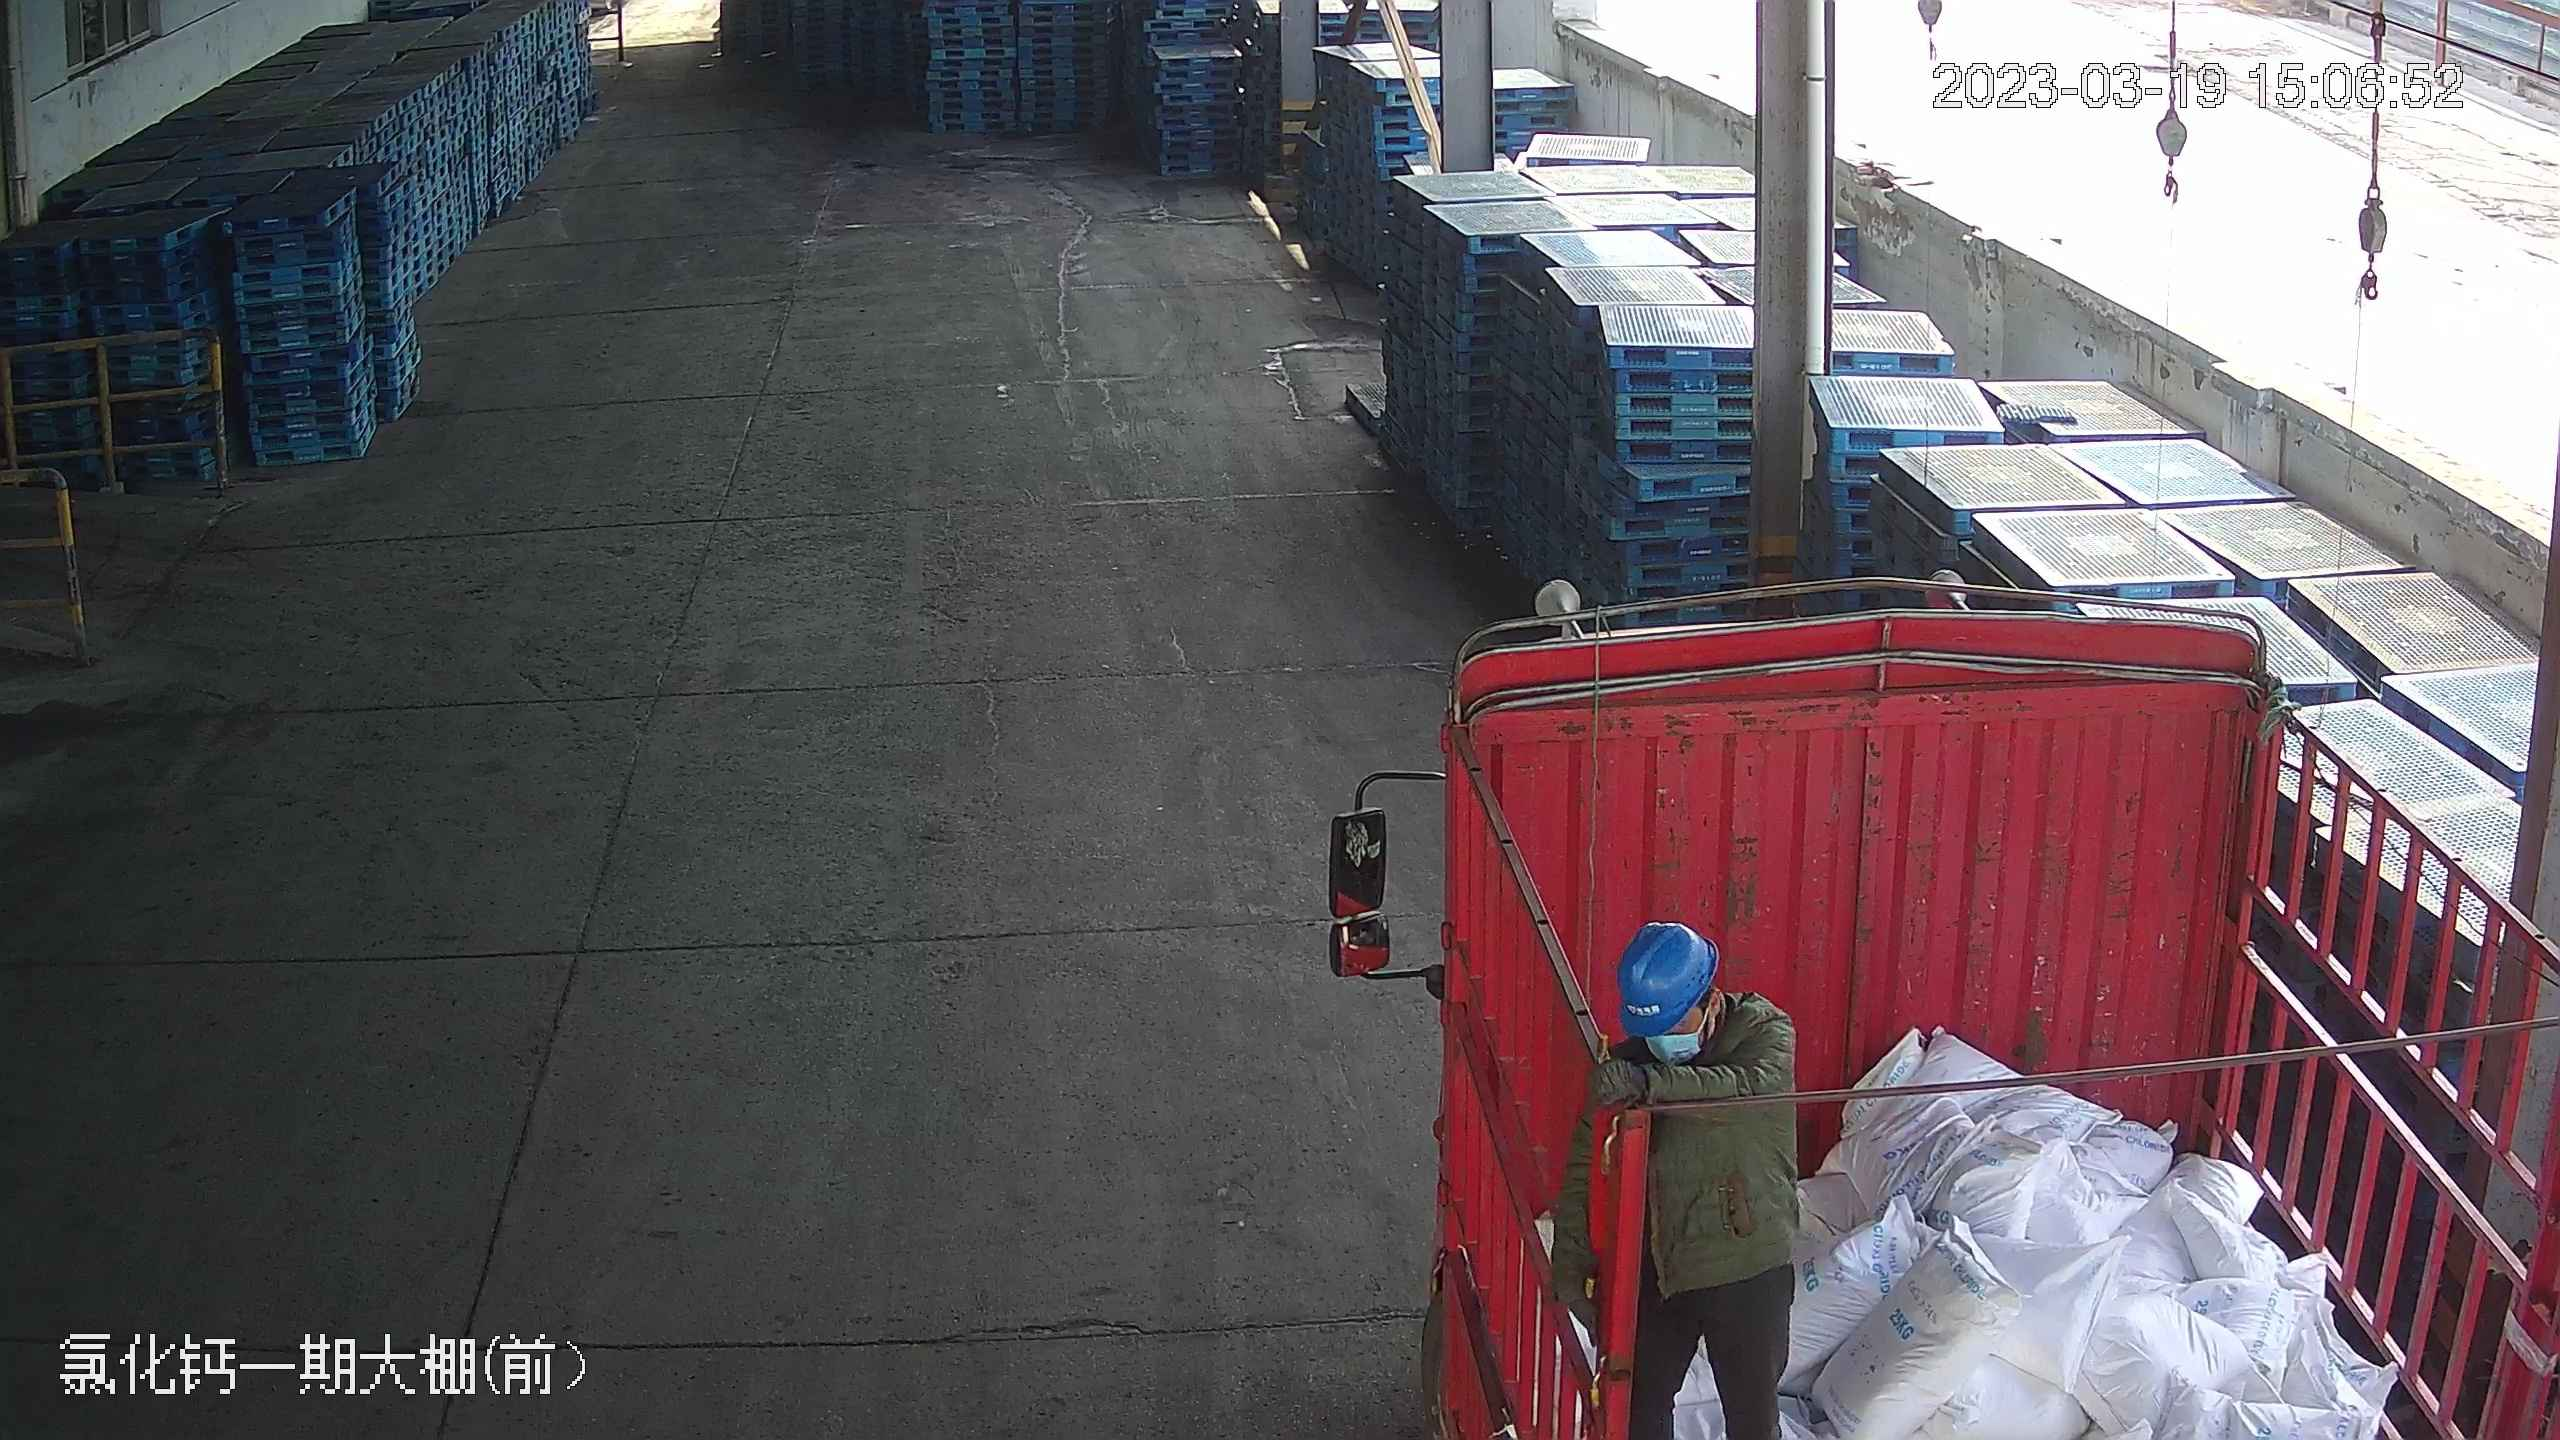head: (1593, 913, 1791, 1134)
helmet: (1613, 916, 1722, 1035)
people: (1581, 913, 1813, 1437)
truck: (1398, 538, 2553, 1437)
